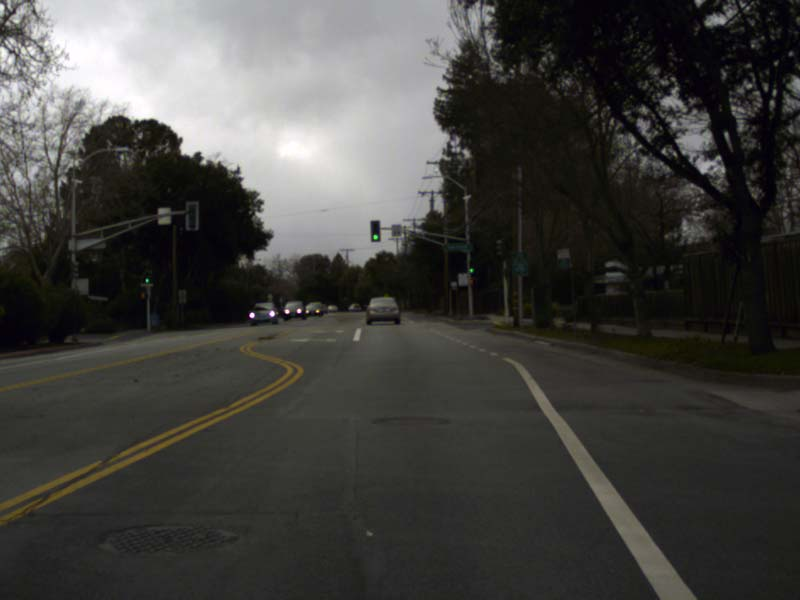Green: (370, 219, 380, 242), (468, 266, 476, 284), (144, 272, 151, 284)
